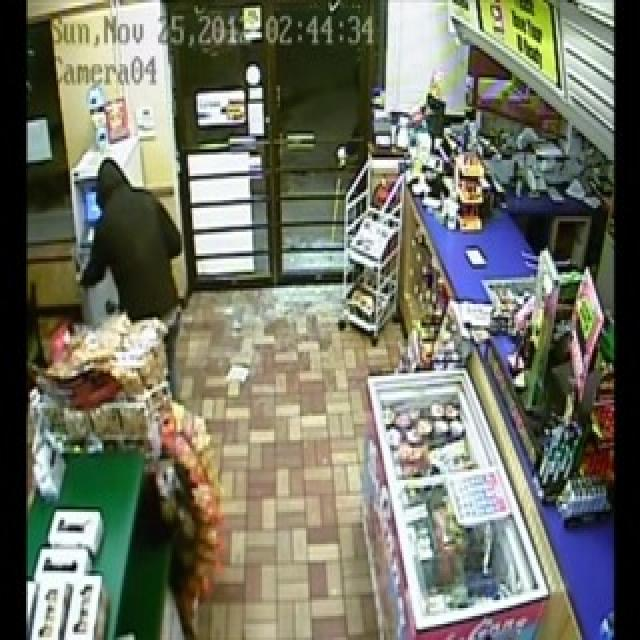thief: (82, 164, 182, 323)
